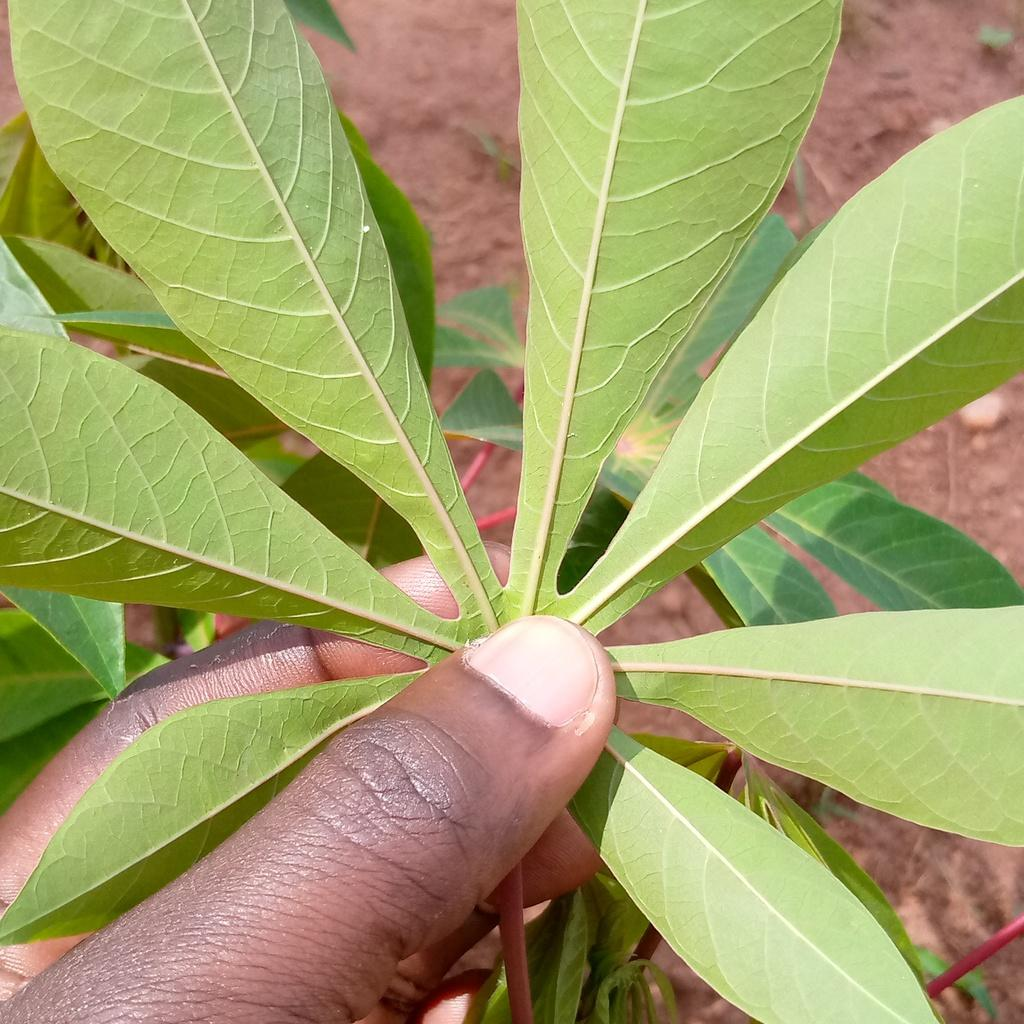adult: (363, 225, 370, 233)
